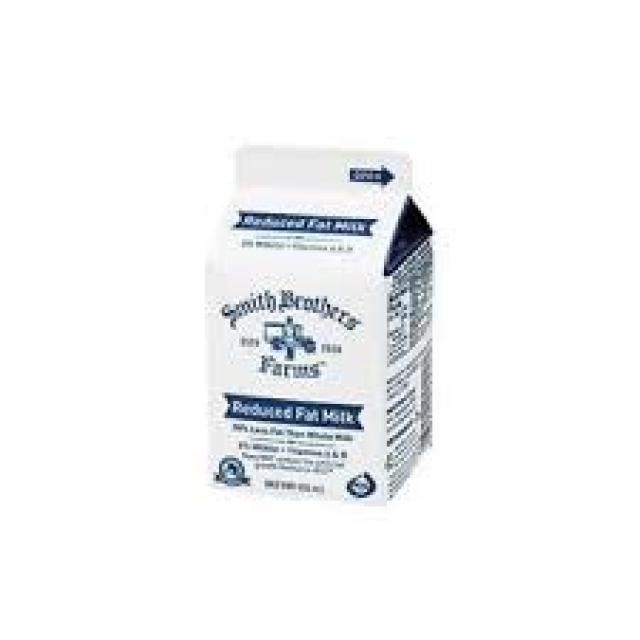non_white_jug: (160, 120, 466, 520)
